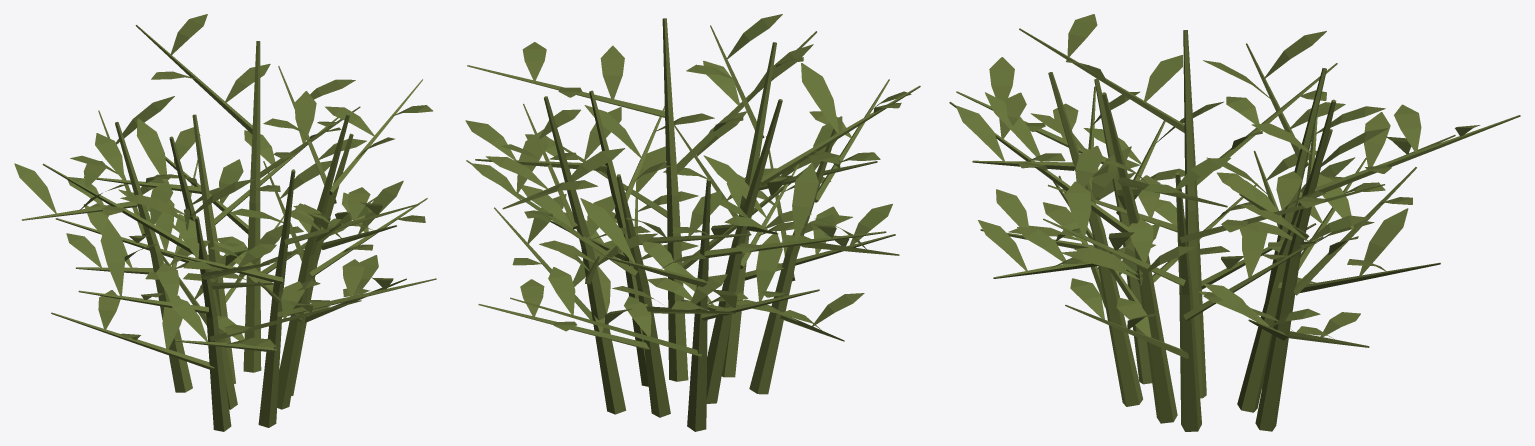
Rendered from plant_011c_branching_waterweed.glb.
3 renders of one model, left to right at view 1: azimuth 30°, elevation 25°; view 2: azimuth 150°, elevation 25°; view 3: azimuth 270°, elevation 25°, orthographic. The views are drawn at different scales.
Visible parts, largest first — view 1: plant_011c_branching_waterweed__stems, plant_011c_branching_waterweed__leaf_clusters; view 2: plant_011c_branching_waterweed__stems, plant_011c_branching_waterweed__leaf_clusters; view 3: plant_011c_branching_waterweed__stems, plant_011c_branching_waterweed__leaf_clusters.
Boxes of the visible parts, <box> form: plant_011c_branching_waterweed__stems: <box>22,25,436,431</box>; plant_011c_branching_waterweed__leaf_clusters: <box>14,14,432,348</box>; plant_011c_branching_waterweed__stems: <box>466,18,920,431</box>; plant_011c_branching_waterweed__leaf_clusters: <box>465,14,911,336</box>; plant_011c_branching_waterweed__stems: <box>949,28,1520,431</box>; plant_011c_branching_waterweed__leaf_clusters: <box>956,14,1480,339</box>.
Bounding box in the file's own units: 2.11 × 1.56 × 2.3.
